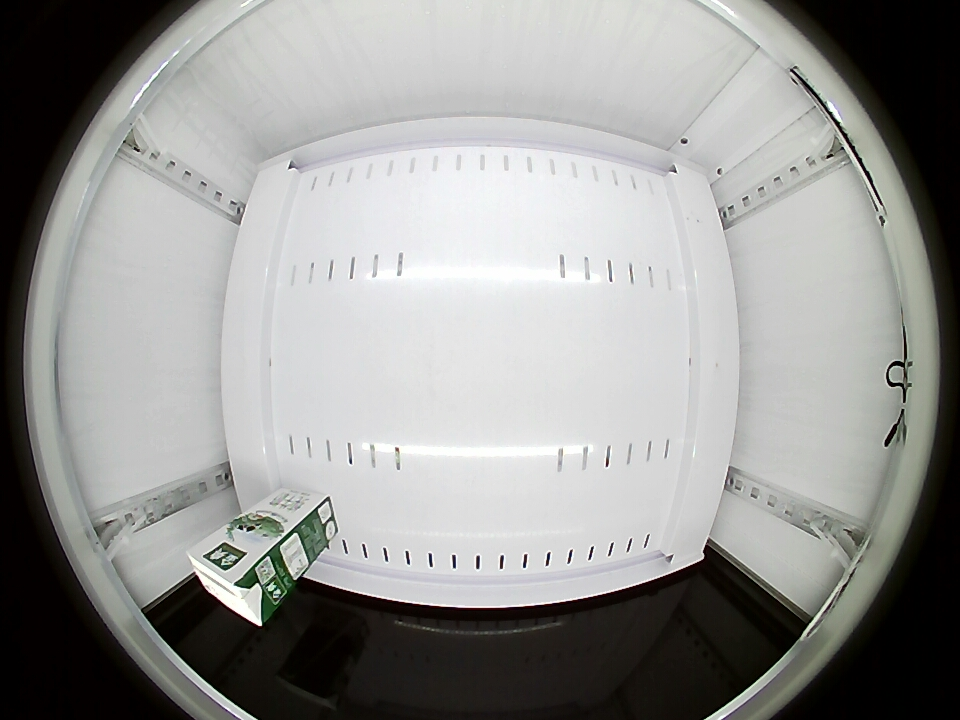jindian: (187, 529, 284, 628)
